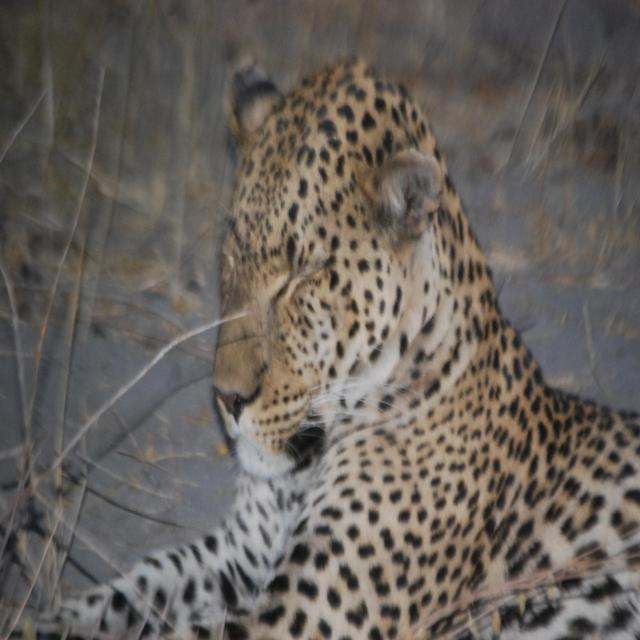Leopard: (76, 55, 629, 640)
